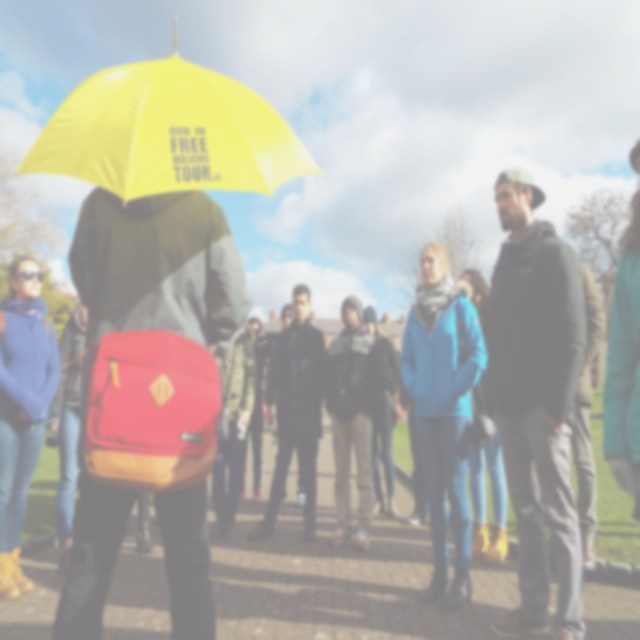pessoa: (46, 181, 258, 640), (478, 166, 590, 640), (395, 232, 492, 614), (537, 218, 607, 574), (0, 252, 62, 606), (246, 282, 329, 542), (459, 269, 509, 565), (603, 139, 639, 548), (326, 294, 382, 552), (48, 298, 94, 578), (206, 332, 258, 538), (360, 304, 404, 519), (268, 303, 306, 508), (232, 316, 272, 505), (400, 382, 430, 526), (132, 488, 156, 553)
